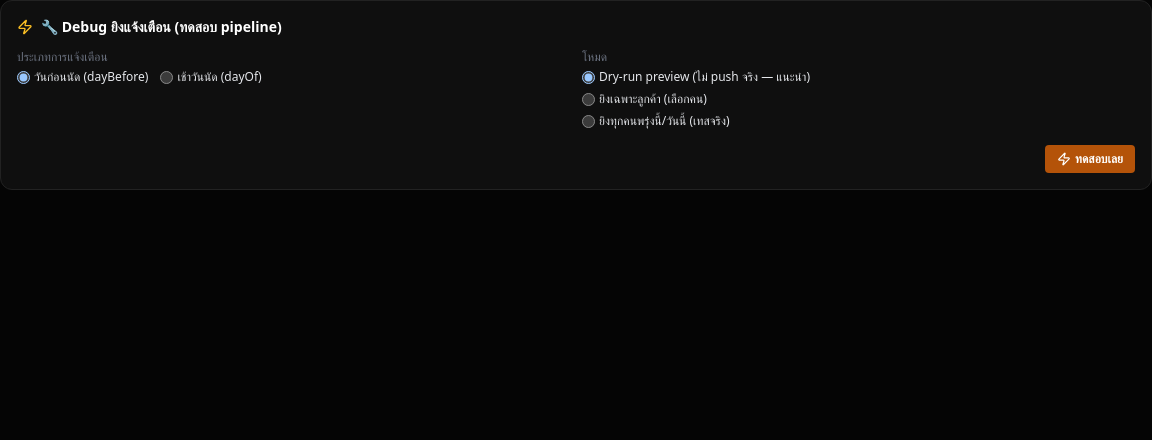
Test case: V69.A — force flag (bypass idempotency for re-test) › AA.5 result panel shows already-sent hint when details have already-sent + force unchecked
Click the radio button labelled "ยิงเฉพาะลูกค้า (เลือกคน)" at (588, 99), box [582,92,595,106]
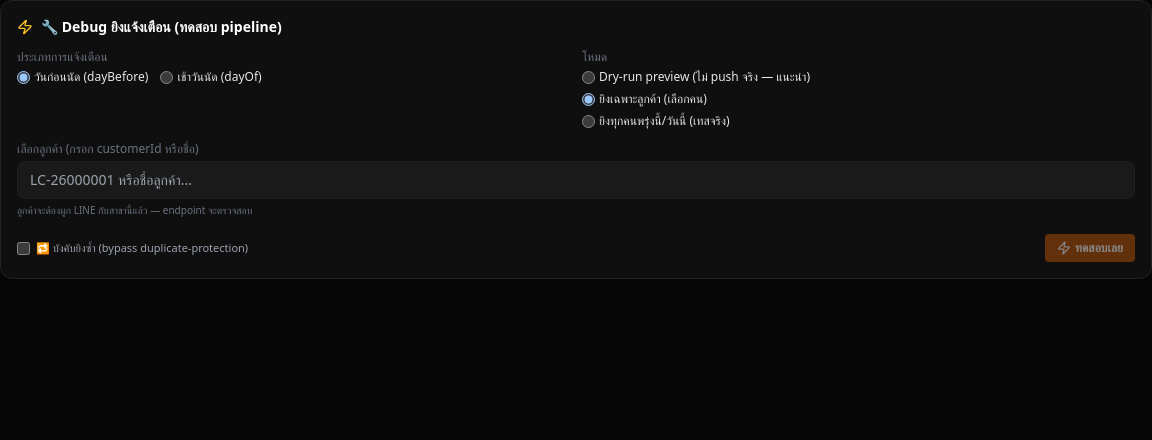
Type "000004" into the field with placeholder "LC-26000001 หรือชื่อลูกค้า..." at (576, 180), box [17,161,1135,199]
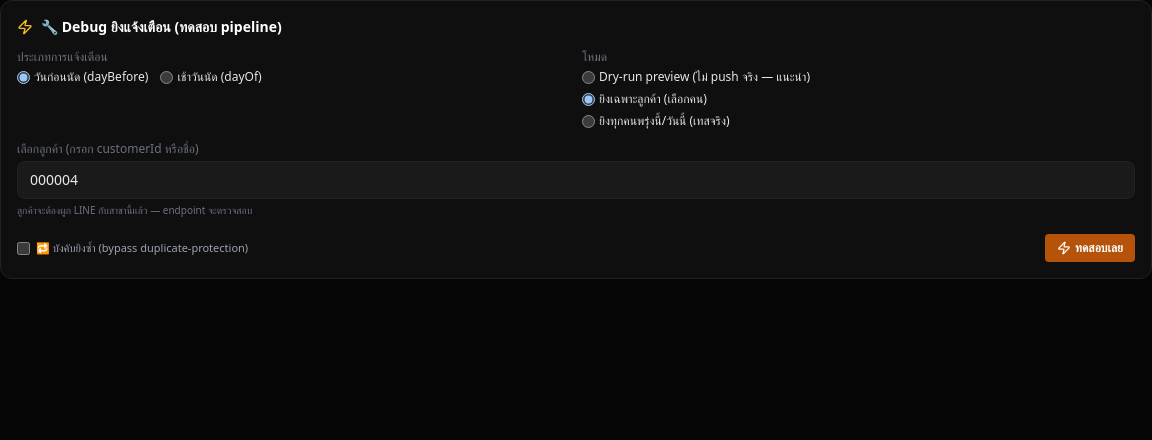
Click the button with test id "debug-fire-button" at (1090, 248), box [1045,234,1135,262]
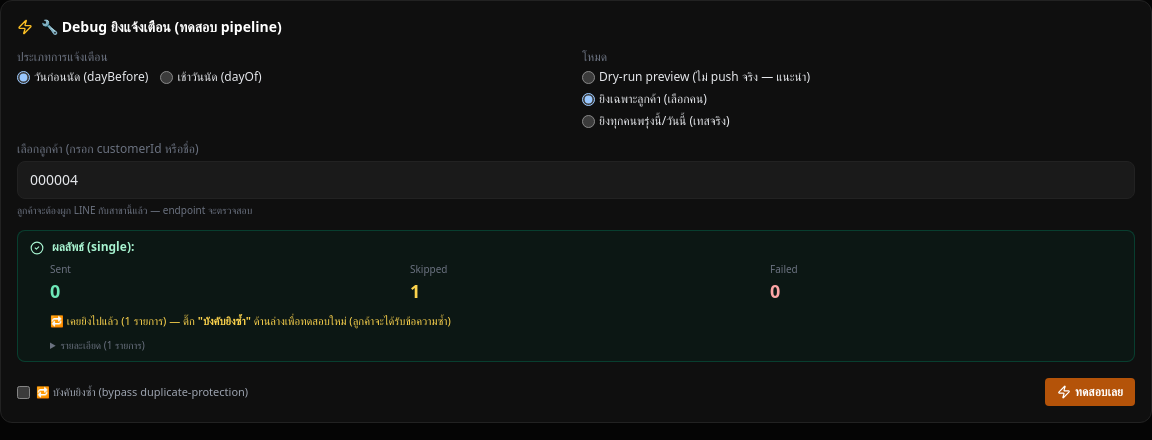
Now the element with test id "debug-fire-already-sent" is shown, box [50,313,451,328]
Now the element with test id "debug-fire-already-sent" shows "เคยยิงไปแล้ว", box [50,313,124,328]
